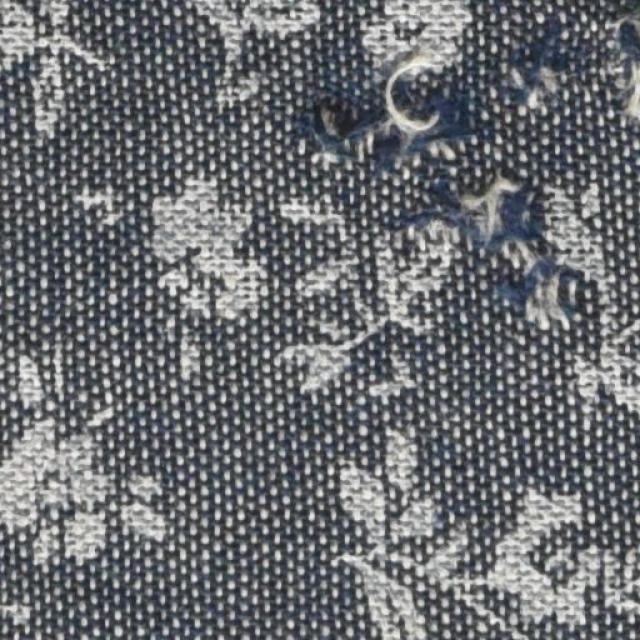Snag: (422, 166, 591, 345), (300, 73, 480, 180), (505, 27, 578, 119), (610, 18, 639, 130)
